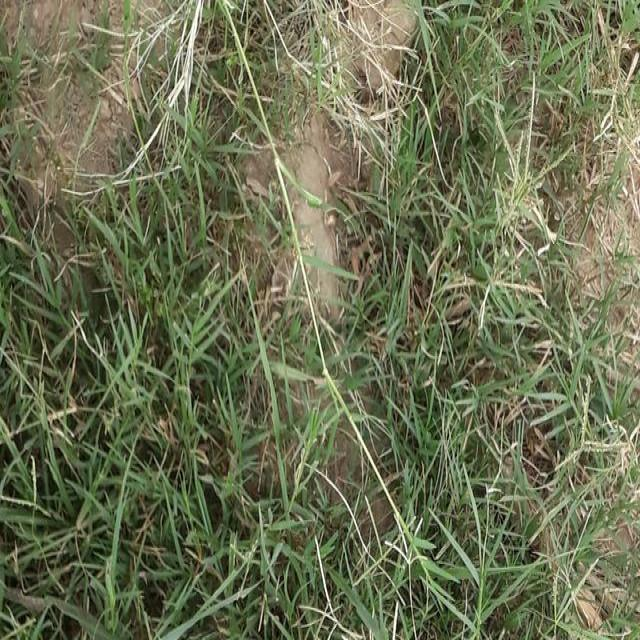weed: (400, 150, 579, 638), (32, 256, 255, 619)
